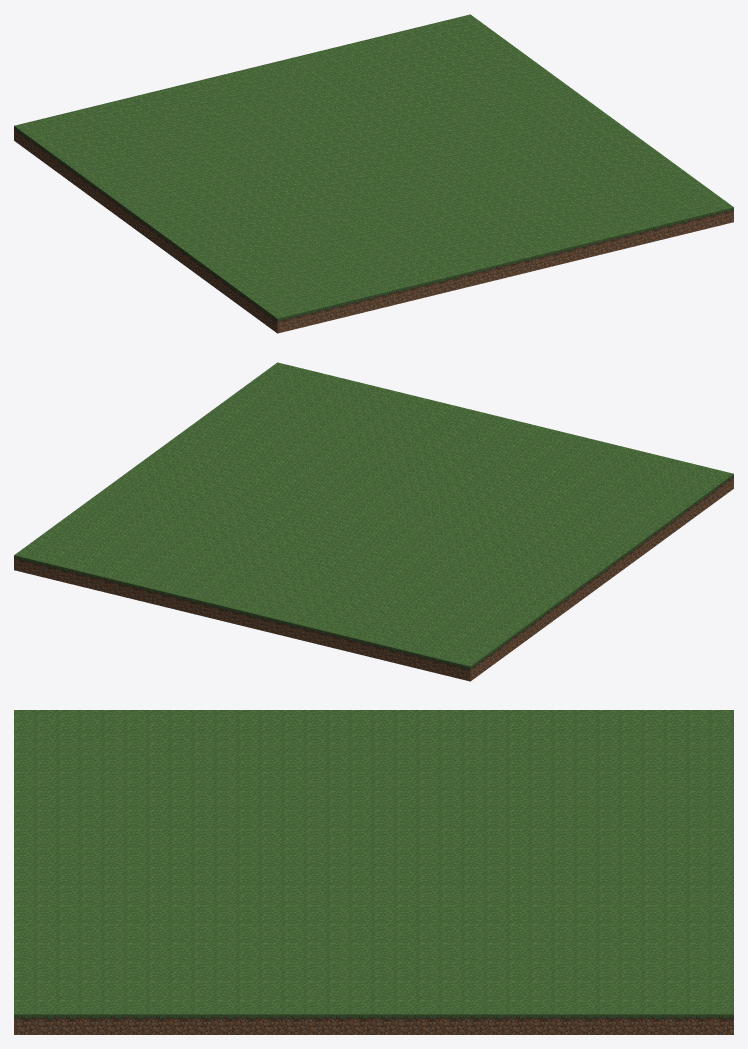
Rendered from почва.glb.
The picture shows the model from 3 angles, top to bottom: view 1: azimuth 30°, elevation 25°; view 2: azimuth 150°, elevation 25°; view 3: azimuth 270°, elevation 25°; orthographic projection. The views are drawn at different scales.
Visible parts, largest first — view 1: Object_3, Object_2; view 2: Object_3, Object_2; view 3: Object_2, Object_3.
Boxes of the visible parts, x1=… form: Object_3: x1=14, y1=18, x2=719, y2=333; Object_2: x1=28, y1=14, x2=733, y2=329; Object_3: x1=28, y1=366, x2=733, y2=681; Object_2: x1=14, y1=362, x2=719, y2=677; Object_2: x1=14, y1=719, x2=733, y2=1034; Object_3: x1=14, y1=710, x2=733, y2=1004.
Size of the model in its own units: 64 by 2 by 64.
Materials: 1 (1 with a texture image).
